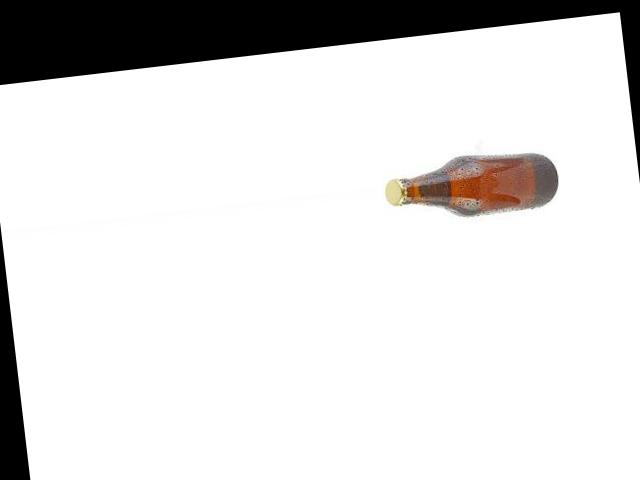beer: (383, 149, 560, 224)
